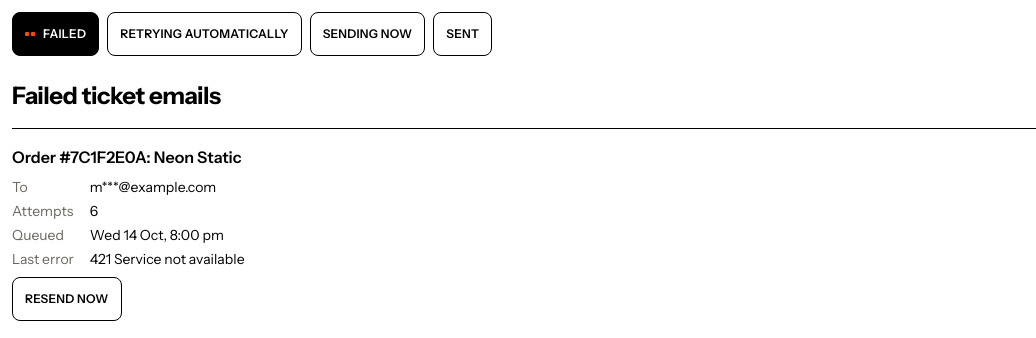
Test: EmailOutbox › lists failed emails by order reference and masked address, and resends one
The image size is (1036, 338).
Expected: the text "m***@example.com" is shown, [90,178,216,196]
Expected: the text "421 Service not available" is shown, [90,250,244,268]
Click the button "Resend now". click: (67, 299)
box: [12,277,122,321]
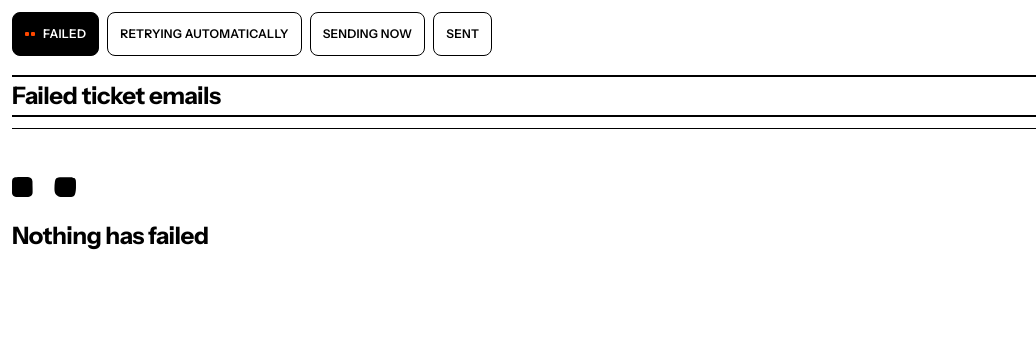
Now the heading "Order #7C1F2E0A: Neon Static" is gone
Now the text "Nothing has failed" is shown, box [12,221,209,250]
